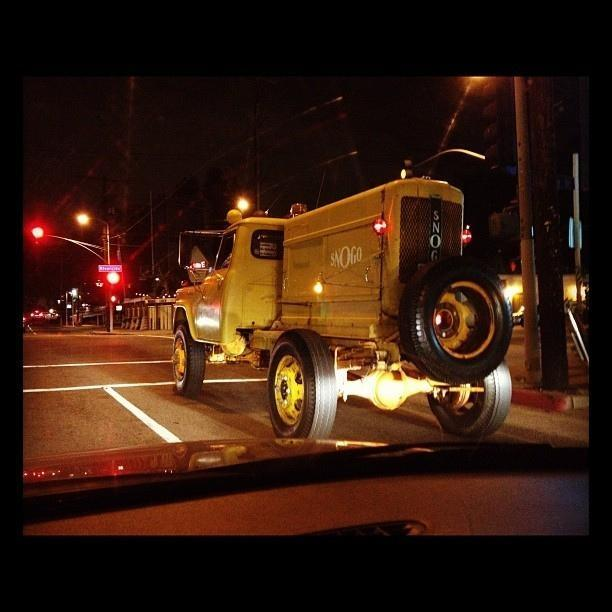truck: (172, 177, 514, 440)
